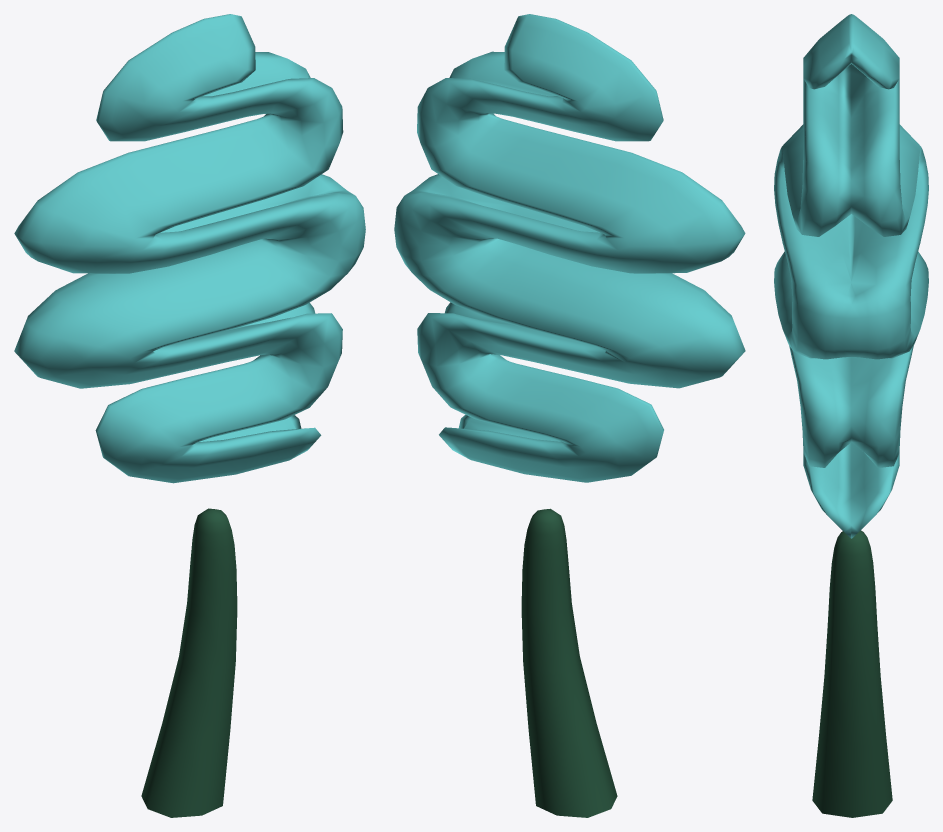
Rendered from Tree Floating.glb.
The picture shows the model from 3 angles, left to right: view 1: azimuth 30°, elevation 25°; view 2: azimuth 150°, elevation 25°; view 3: azimuth 270°, elevation 25°; orthographic projection.
Visible parts, largest first — view 1: Tree_Floating_1; view 2: Tree_Floating_1; view 3: Tree_Floating_1.
Boxes of the visible parts, x1,y1,x2,y2 form: Tree_Floating_1: (14,14,365,817); Tree_Floating_1: (394,14,745,817); Tree_Floating_1: (774,14,928,817).
Bounding box in the file's own units: 2.09 × 4.61 × 0.8259.
1 material, 1 textured.
